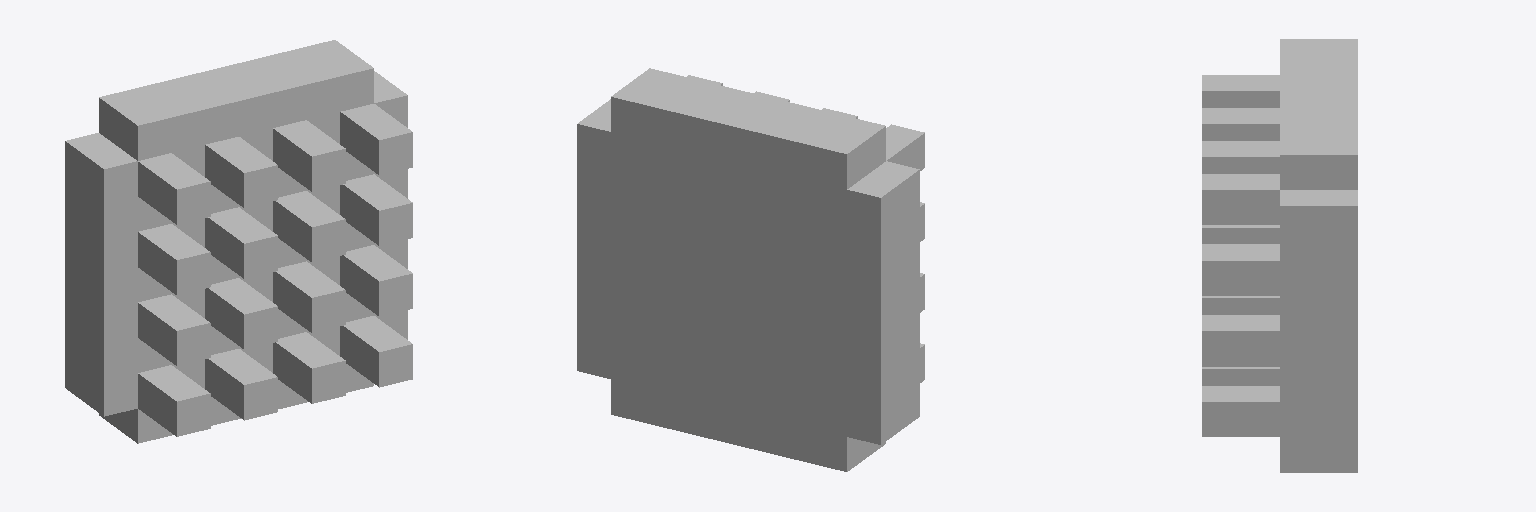
The model's file is spike_wall.obj.
The picture shows the model from 3 angles: view 1: azimuth 30°, elevation 25°; view 2: azimuth 150°, elevation 25°; view 3: azimuth 270°, elevation 25°; orthographic projection.
Bounding box in the file's own units: 9 × 9 × 4.